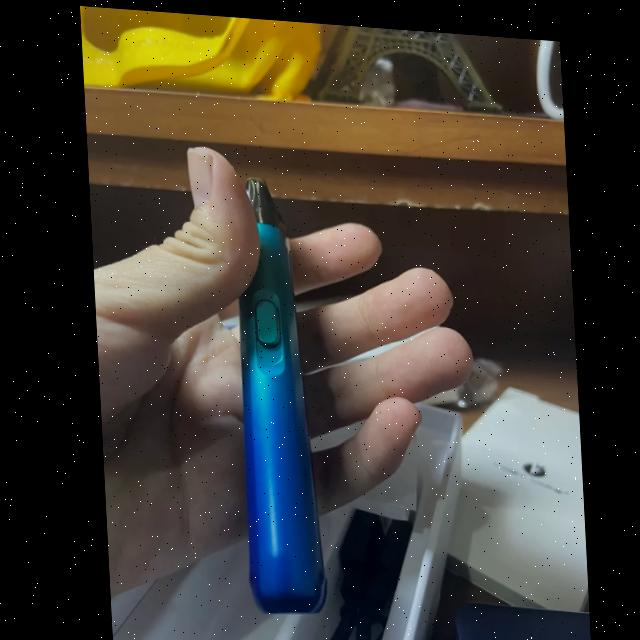vape: (223, 176, 322, 616)
